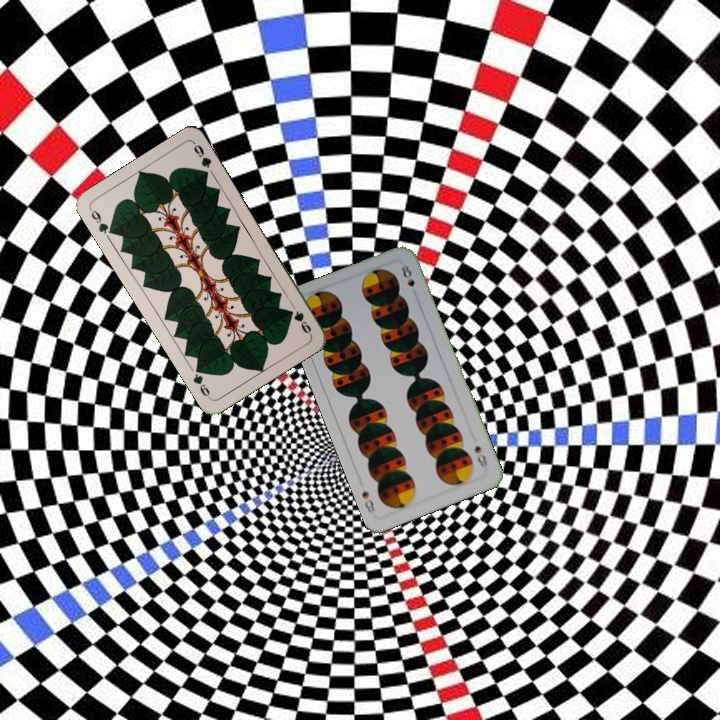G9: (86, 205, 118, 237), (288, 300, 314, 337)
S8: (470, 442, 490, 470)
